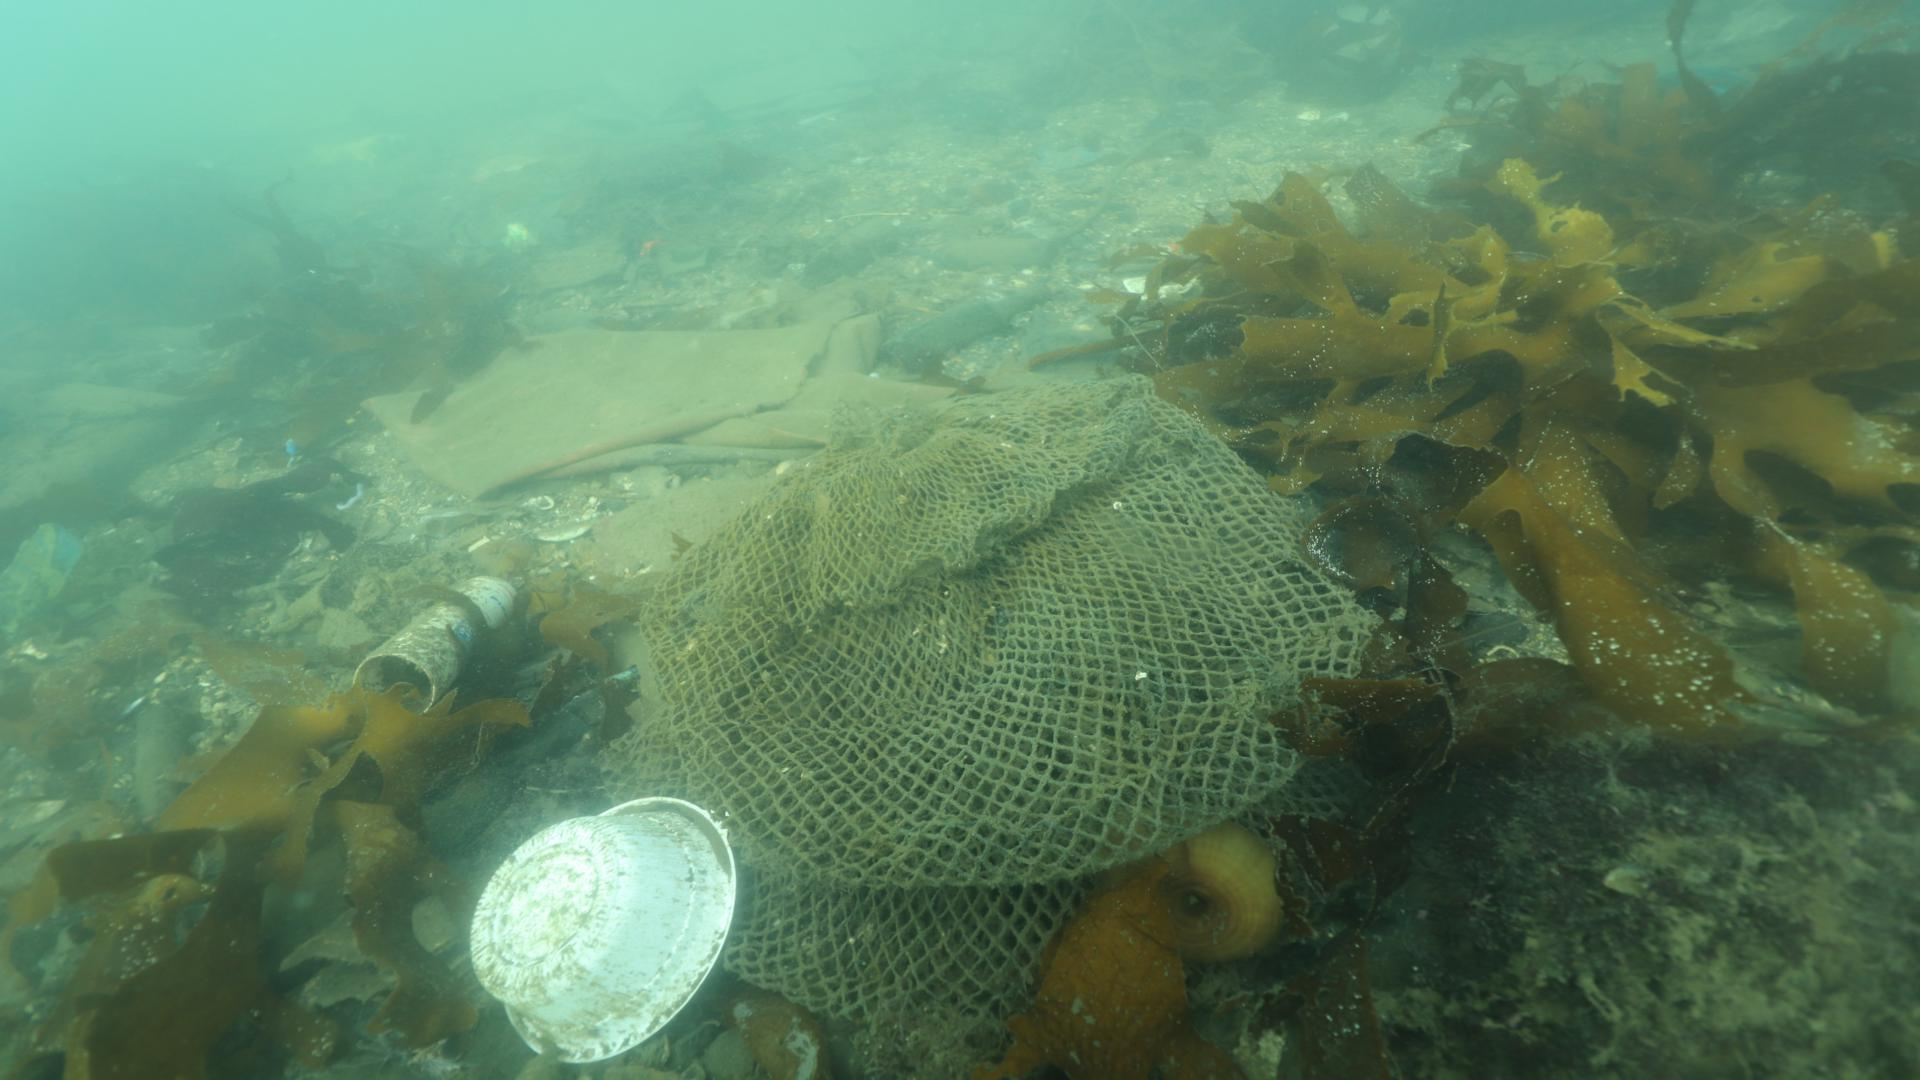fish net: (597, 365, 1385, 1014)
